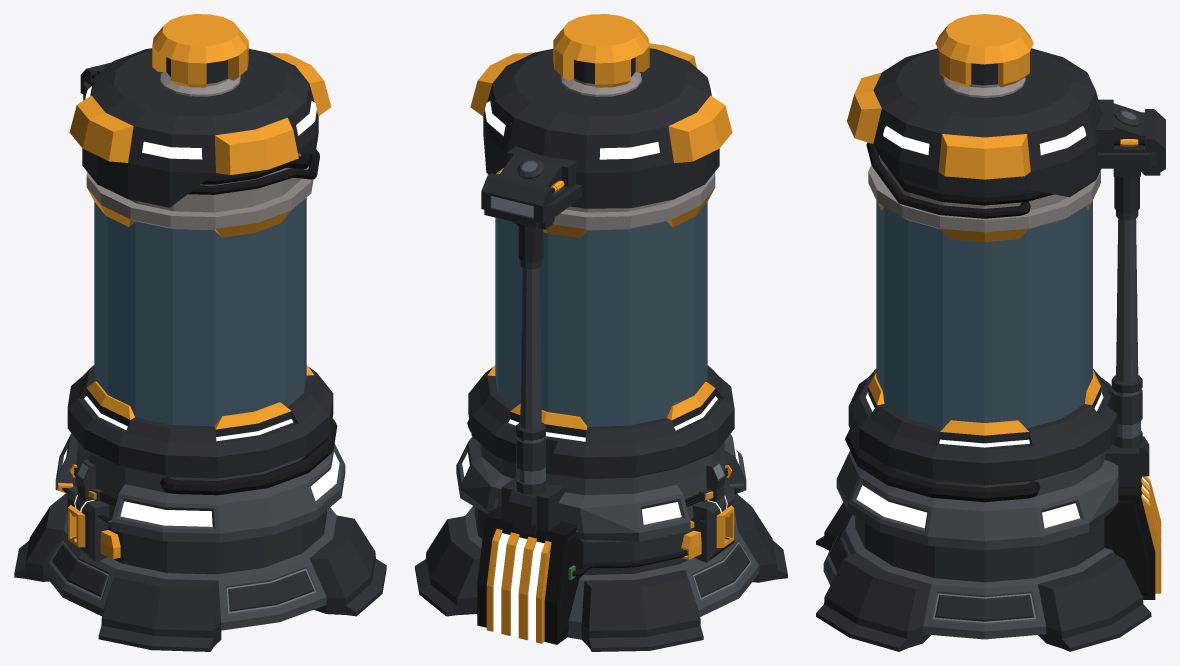
The model's file is SM_Device_02.glb.
The picture shows the model from 3 angles, left to right: view 1: azimuth 30°, elevation 25°; view 2: azimuth 150°, elevation 25°; view 3: azimuth 270°, elevation 25°; orthographic projection.
Parts seen in each view (by area): view 1: SM_Device_02; view 2: SM_Device_02; view 3: SM_Device_02.
Boxes of the visible parts, x1=… form: SM_Device_02: x1=14, y1=14, x2=386, y2=651; SM_Device_02: x1=415, y1=14, x2=787, y2=651; SM_Device_02: x1=816, y1=14, x2=1165, y2=651.
Size of the model in its own units: 2.22 by 3.99 by 2.3.
3 materials, 1 textured.
